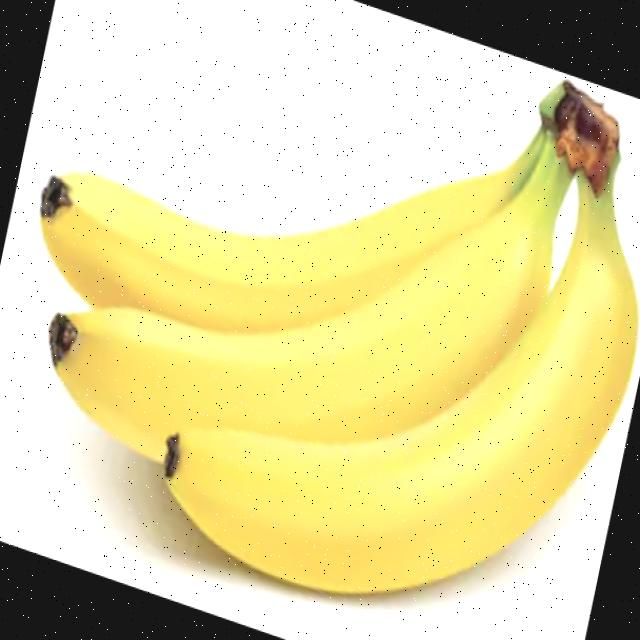god quality banana: (39, 81, 638, 593)
